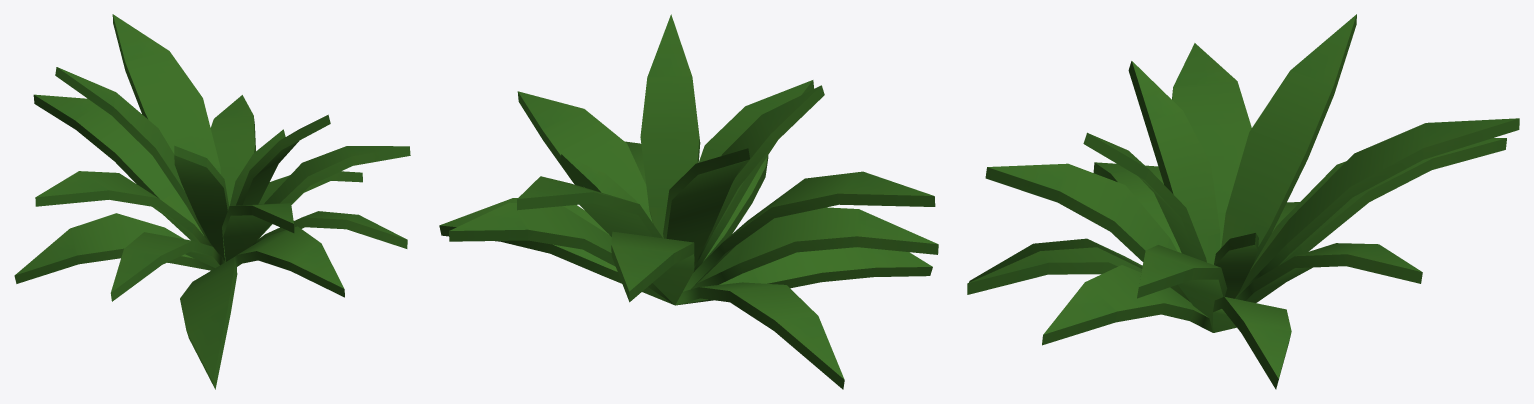
The model's file is Grass_003.glb.
3 views of the same model, side by side, from view 1: azimuth 30°, elevation 25°; view 2: azimuth 150°, elevation 25°; view 3: azimuth 270°, elevation 25° (orthographic). The views are drawn at different scales.
Visible parts, largest first — view 1: Grass_003; view 2: Grass_003; view 3: Grass_003.
Part boxes in pixels (x1,y1,x2,y2): Grass_003: [14, 14, 410, 389]; Grass_003: [439, 14, 938, 389]; Grass_003: [967, 14, 1519, 389].
Bounding box in the file's own units: 1.01 × 0.5741 × 1.05.
1 material, 1 textured.
